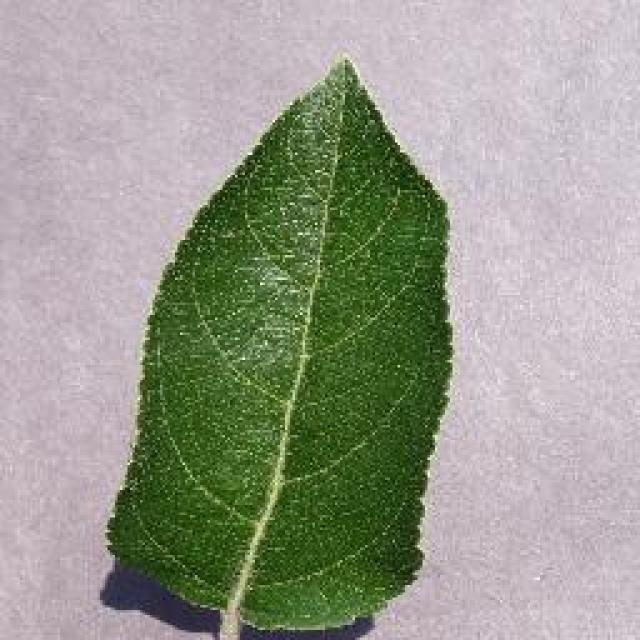apple healthy: (103, 50, 455, 638)
